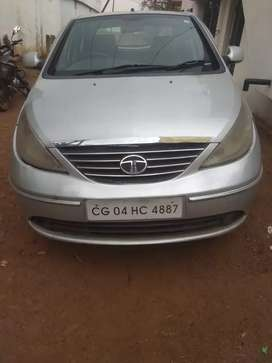CG04HC4887: (86, 196, 182, 220)
